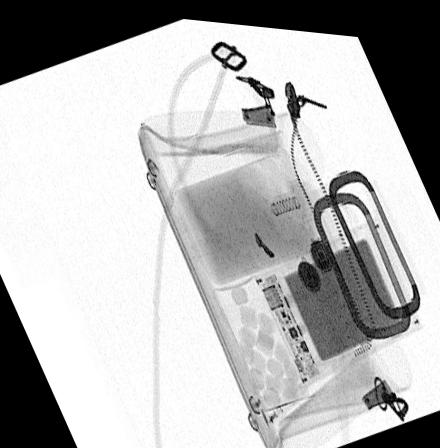Powerbank: (253, 207, 424, 377)
